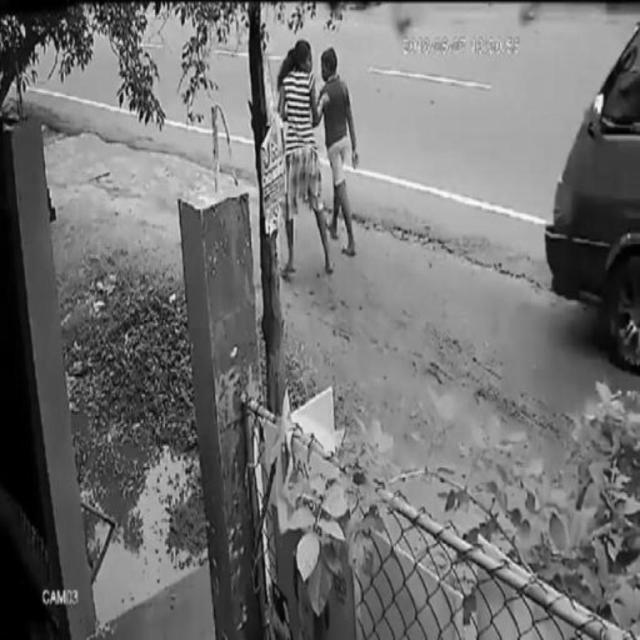person: (274, 39, 319, 276), (320, 49, 364, 266)
